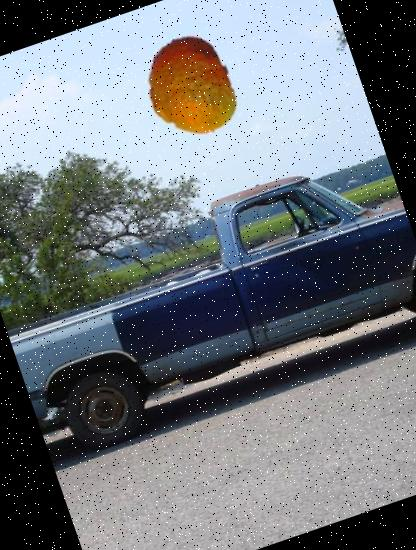Mandarine: (125, 21, 256, 152)
